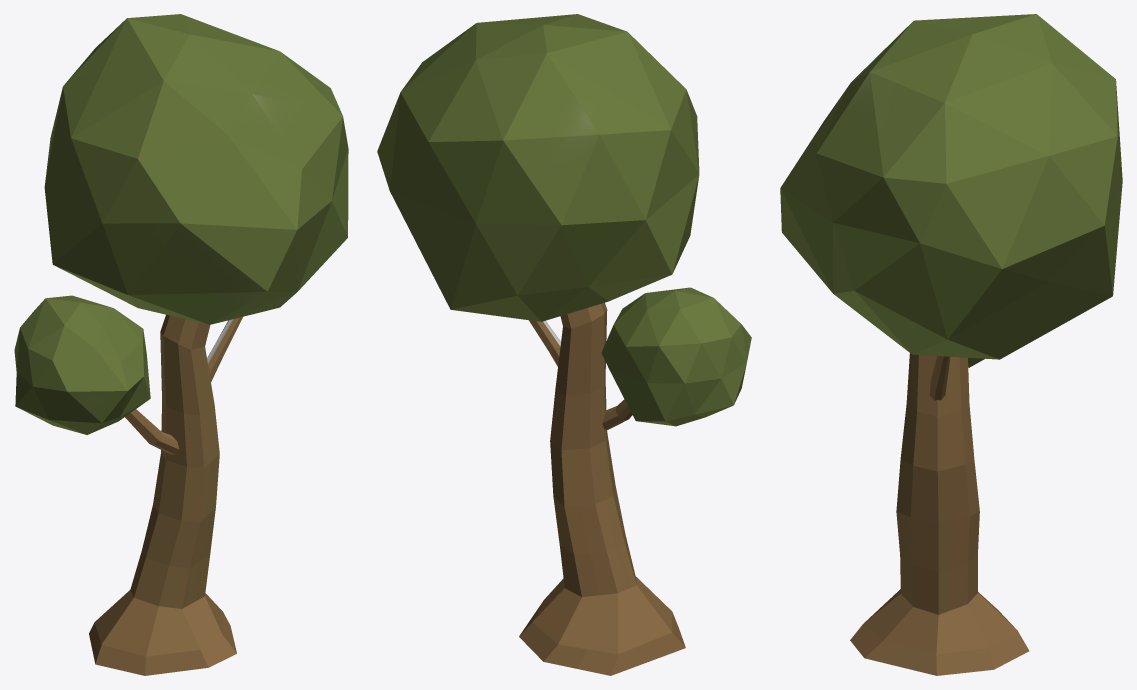
The model's file is tree.fbx.
The picture shows the model from 3 angles, left to right: view 1: azimuth 30°, elevation 25°; view 2: azimuth 150°, elevation 25°; view 3: azimuth 270°, elevation 25°; orthographic projection. The views are drawn at different scales.
Parts seen in each view (by area): view 1: Cylinder.002; view 2: Cylinder.002; view 3: Cylinder.002.
Boxes of the visible parts, bbox=[...] form: Cylinder.002: bbox=[14, 14, 348, 675]; Cylinder.002: bbox=[377, 14, 751, 675]; Cylinder.002: bbox=[780, 14, 1122, 675].
Bounding box in the file's own units: 408 × 714 × 346.
1 material, 1 textured.
